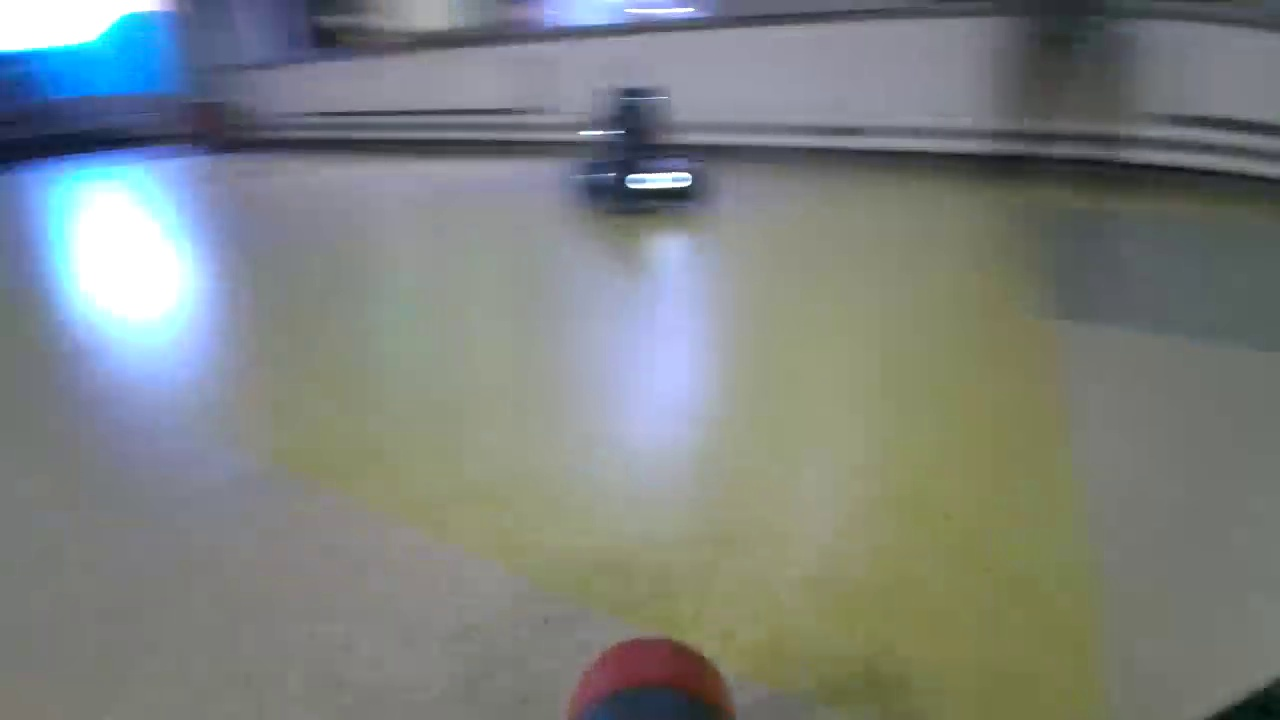robot: (570, 85, 710, 213)
